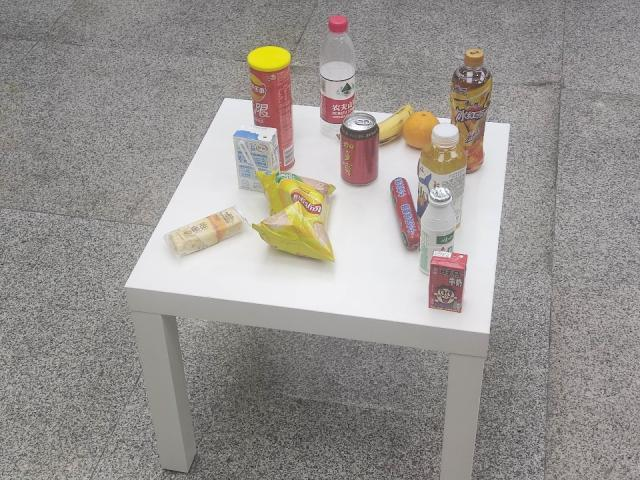Canned_drinks: (339, 110, 380, 188)
bottle: (306, 10, 358, 138)
cylinder: (245, 43, 300, 171)
drink_box: (224, 120, 284, 194), (424, 244, 469, 316)
